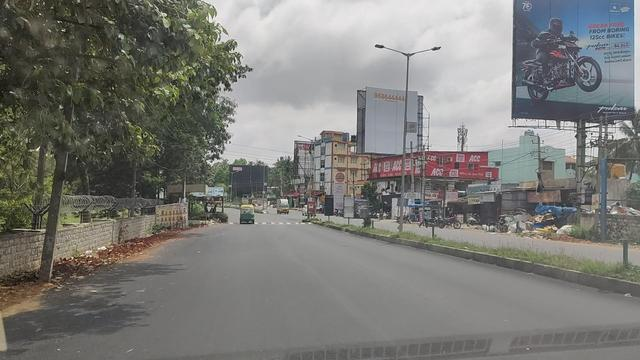LMV: (242, 206, 254, 223)
SpeedBump: (236, 219, 306, 226)
